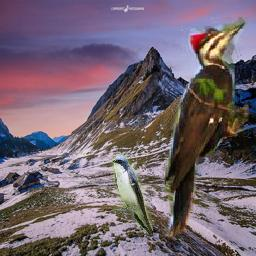Swallow: (111, 155, 153, 235)
Woodpecker: (163, 18, 250, 239)
